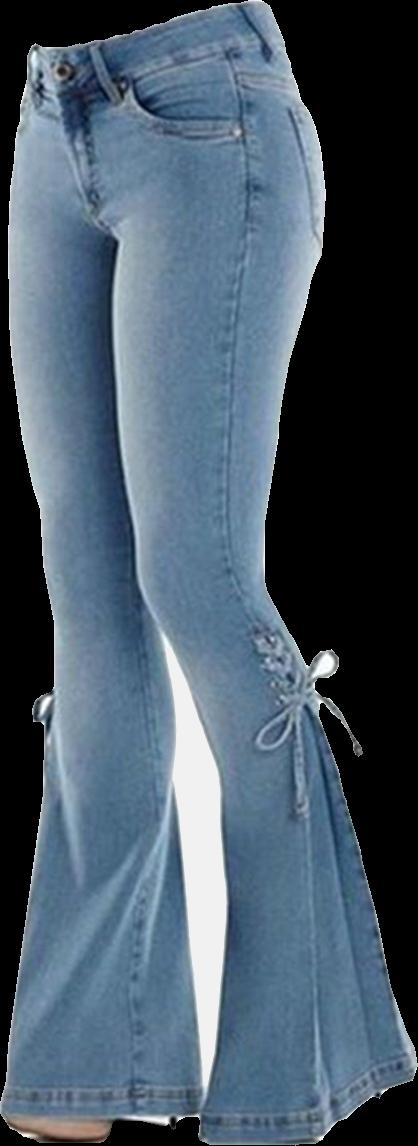Hemline: (202, 1073, 417, 1145), (3, 1099, 209, 1142)
Pantleg: (59, 0, 417, 1145), (0, 45, 202, 1142)
Waistline: (21, 40, 287, 110), (26, 0, 272, 59)
